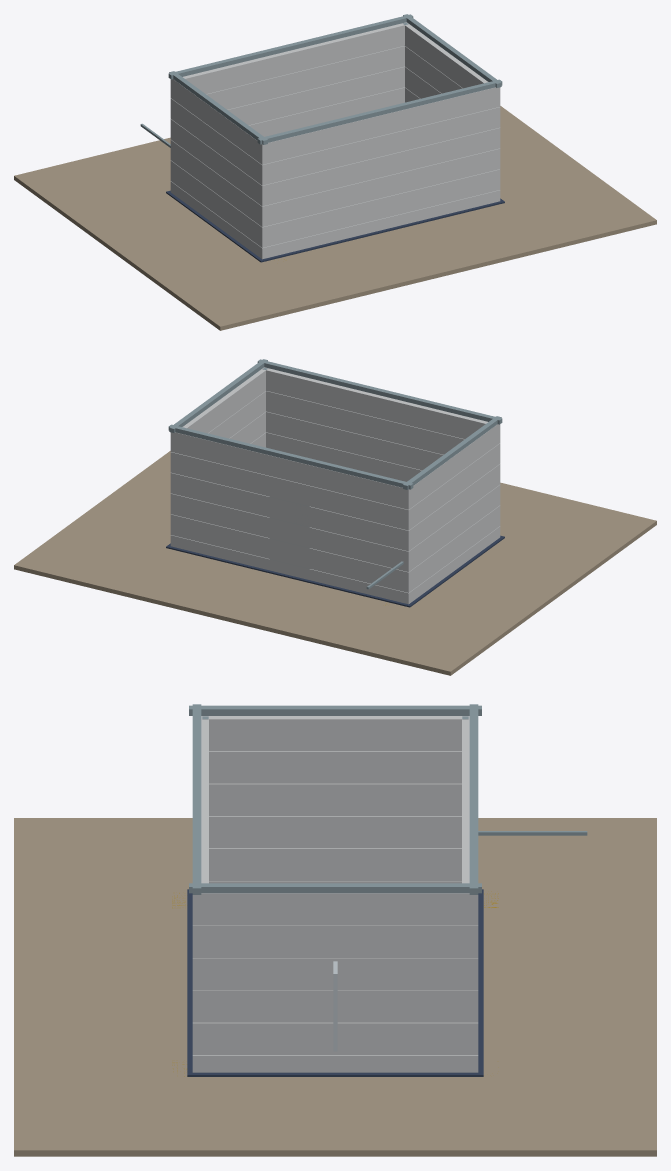
Rendered from stage_08_bands.glb.
3 views of the same model, one above another, from view 1: azimuth 30°, elevation 25°; view 2: azimuth 150°, elevation 25°; view 3: azimuth 270°, elevation 25° (orthographic). The views are drawn at different scales.
Visible parts, largest first — view 1: world; view 2: world; view 3: world.
Part boxes in pixels (x1,y1,x2,y2): world: (14, 14, 656, 330); world: (14, 359, 656, 675); world: (14, 704, 656, 1156).
Bounding box in the file's own units: 11 × 3.7 × 9.
